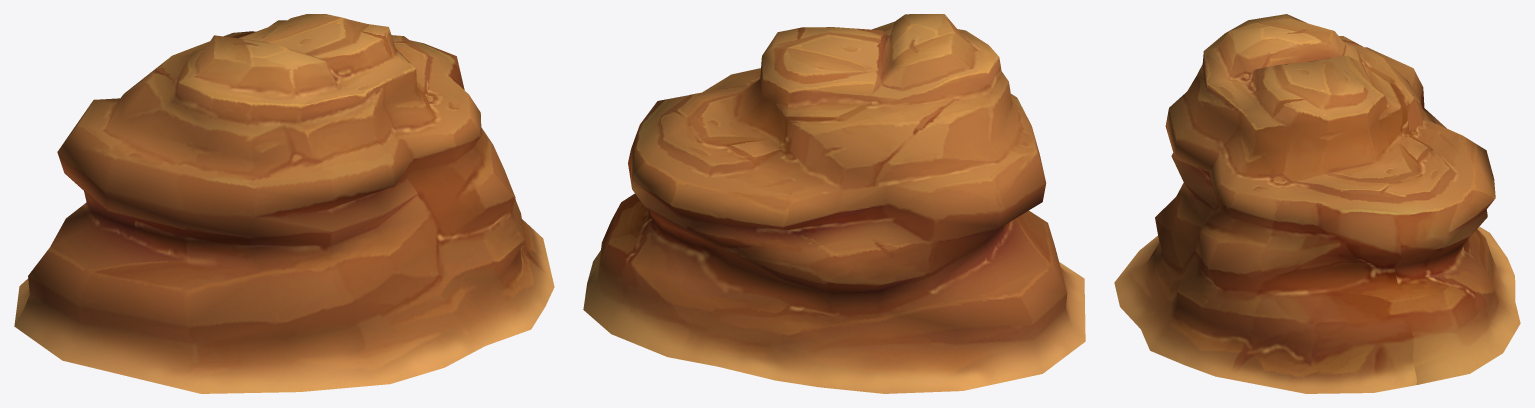
File: huangyexingqiu_shitou07.FBX
3 renders of one model, left to right at view 1: azimuth 30°, elevation 25°; view 2: azimuth 150°, elevation 25°; view 3: azimuth 270°, elevation 25°, orthographic. The views are drawn at different scales.
Visible parts, largest first — view 1: huangyexingqiu_shitou07; view 2: huangyexingqiu_shitou07; view 3: huangyexingqiu_shitou07.
Boxes of the visible parts, x1,y1,x2,y2 form: huangyexingqiu_shitou07: (14,14,554,393); huangyexingqiu_shitou07: (583,14,1085,393); huangyexingqiu_shitou07: (1114,14,1520,393).
Size of the model in its own units: 8489 by 4590 by 7099.
